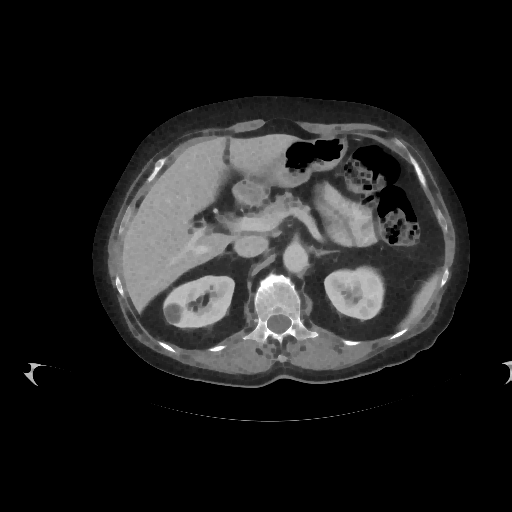Lesion: (164, 301, 185, 326)
